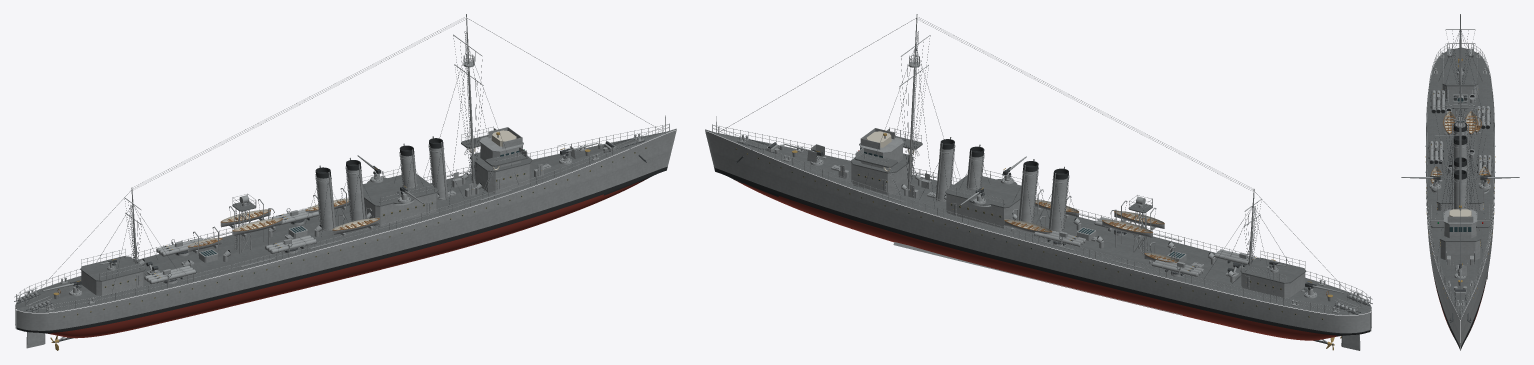
Rendered from clemson.glb.
3 renders of one model, left to right at view 1: azimuth 30°, elevation 25°; view 2: azimuth 150°, elevation 25°; view 3: azimuth 270°, elevation 25°, orthographic. The views are drawn at different scales.
Visible parts, largest first — view 1: Clemson class, original interwar destroyer fit; view 2: Clemson class, original interwar destroyer fit; view 3: Clemson class, original interwar destroyer fit.
Boxes of the visible parts, bbox=[...] form: Clemson class, original interwar destroyer fit: bbox=[14, 14, 676, 350]; Clemson class, original interwar destroyer fit: bbox=[705, 14, 1372, 350]; Clemson class, original interwar destroyer fit: bbox=[1401, 14, 1519, 350].
Bounding box in the file's own units: 95.83 × 31.61 × 16.48.
11 materials, 2 textured.
